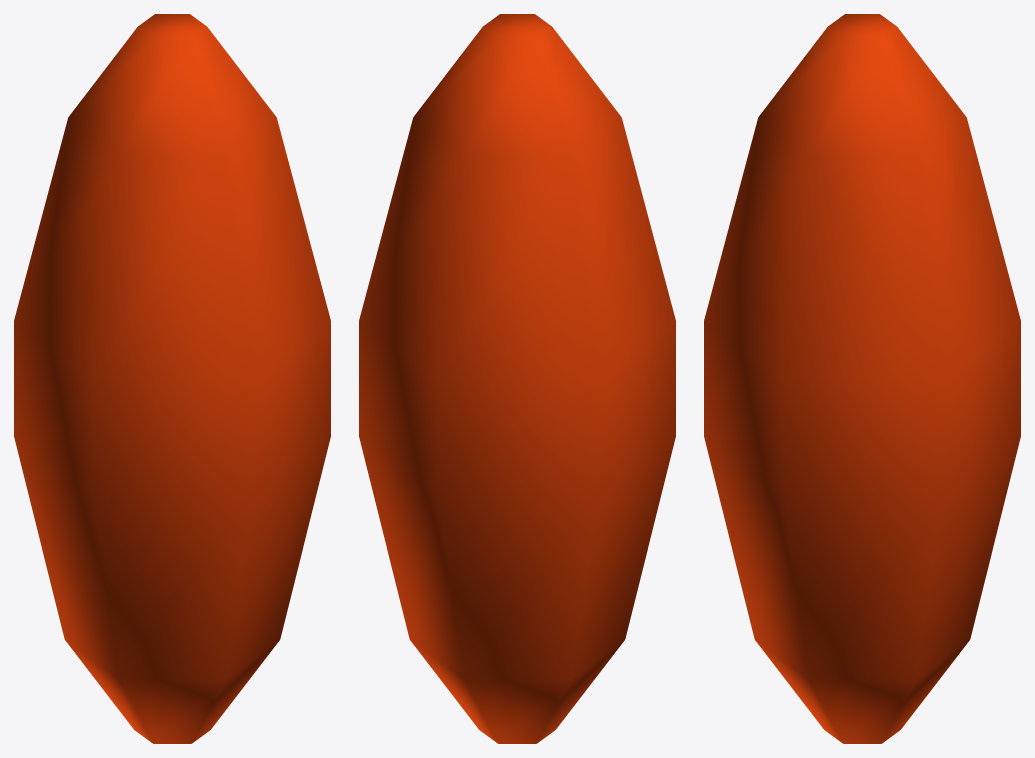
File: PeeledSweetPotato.obj
3 views of the same model, side by side, from view 1: azimuth 30°, elevation 25°; view 2: azimuth 150°, elevation 25°; view 3: azimuth 270°, elevation 25° (orthographic).
Parts seen in each view (by area): view 1: avocado; view 2: avocado; view 3: avocado.
Boxes of the visible parts, x1,y1,x2,y2 form: avocado: [14, 14, 330, 743]; avocado: [359, 14, 675, 743]; avocado: [704, 14, 1020, 743].
Size of the model in its own units: 0.1141 by 0.3227 by 0.1317.
